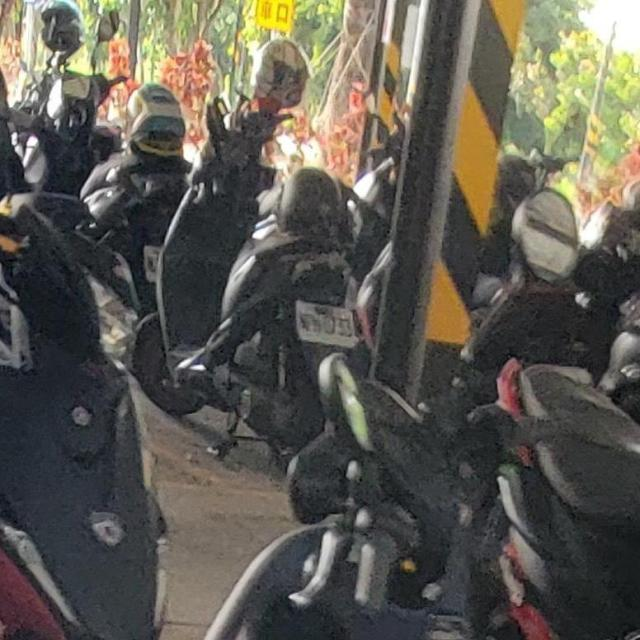W: (288, 295, 364, 352)
